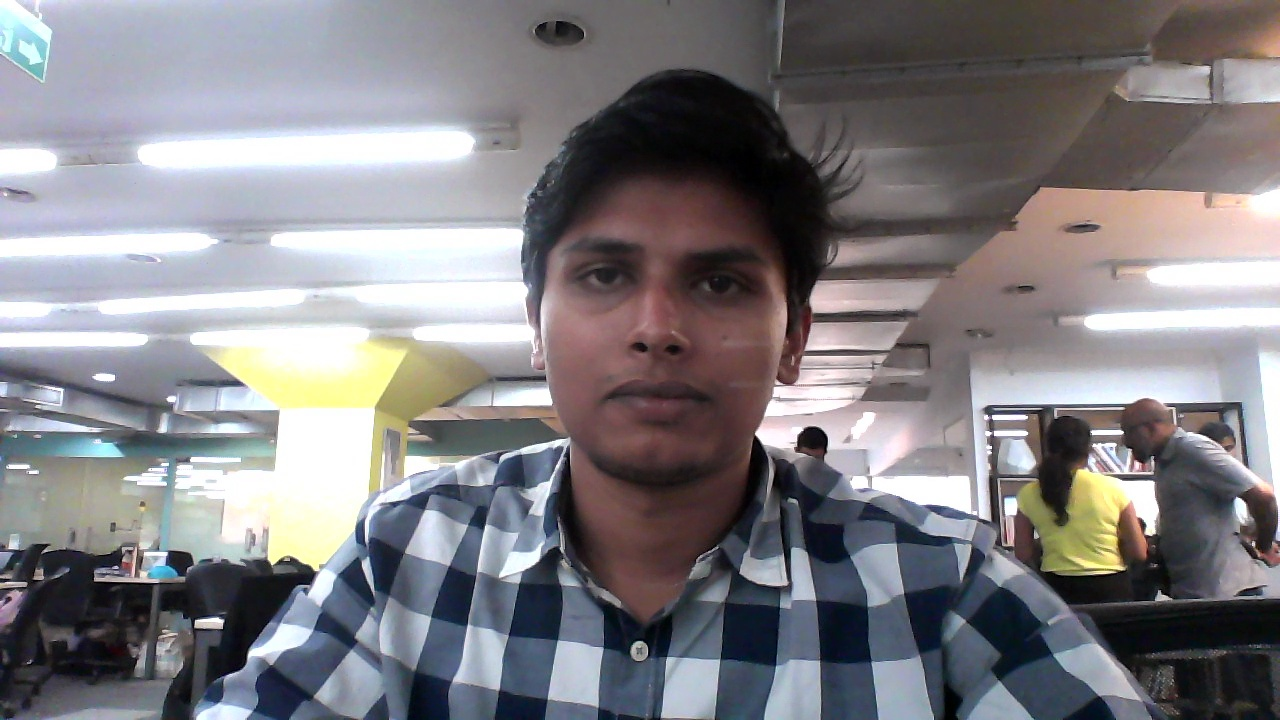open: (512, 67, 829, 496)
